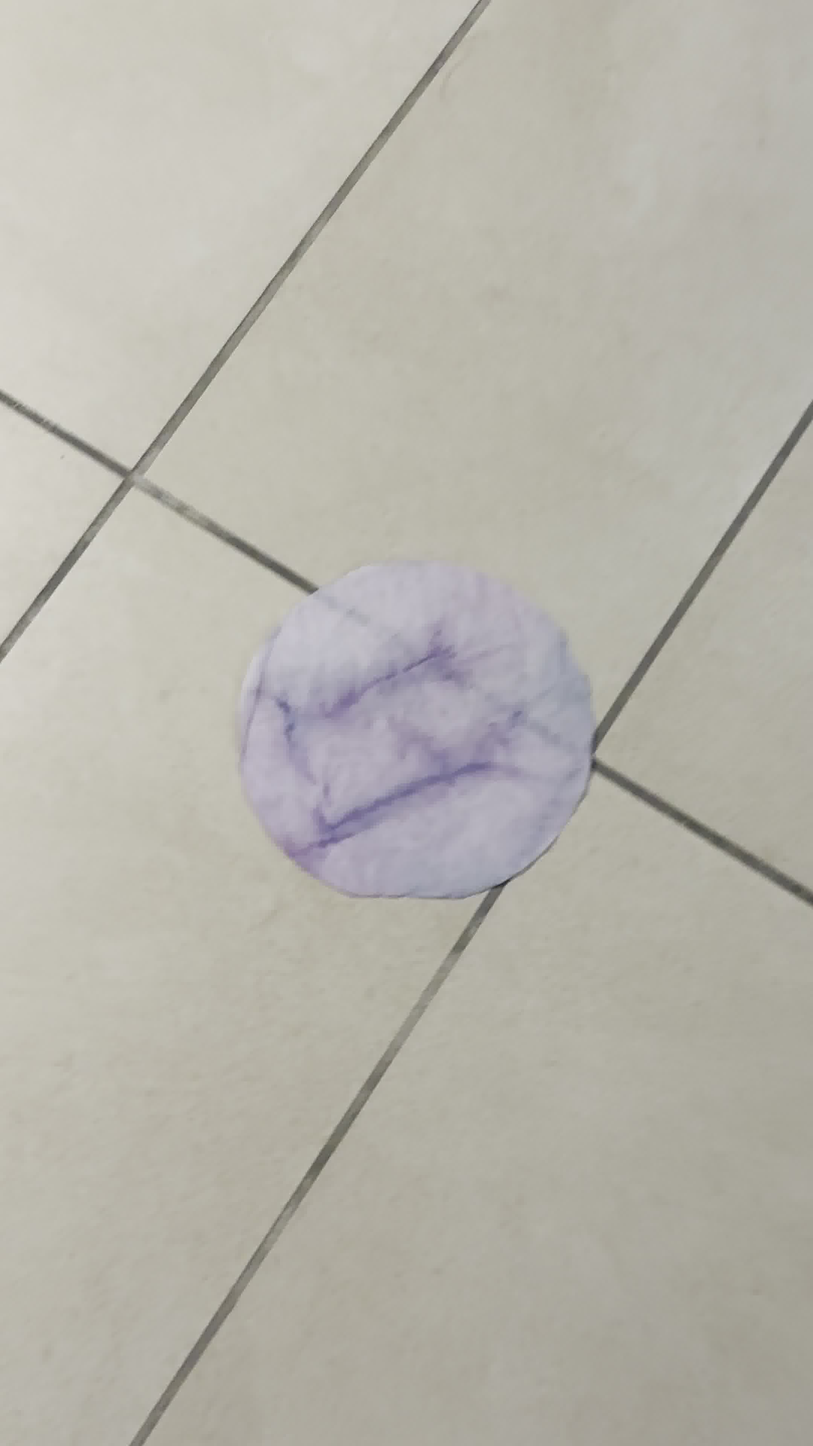Target: (231, 559, 594, 900)
